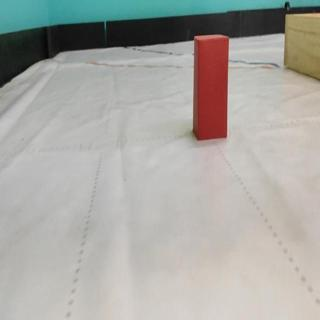redbox: (193, 33, 230, 140)
